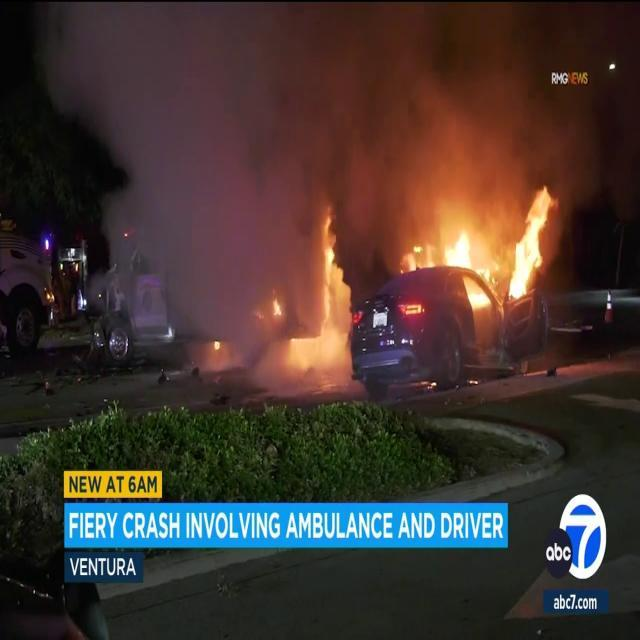Fire: (404, 175, 559, 309)
